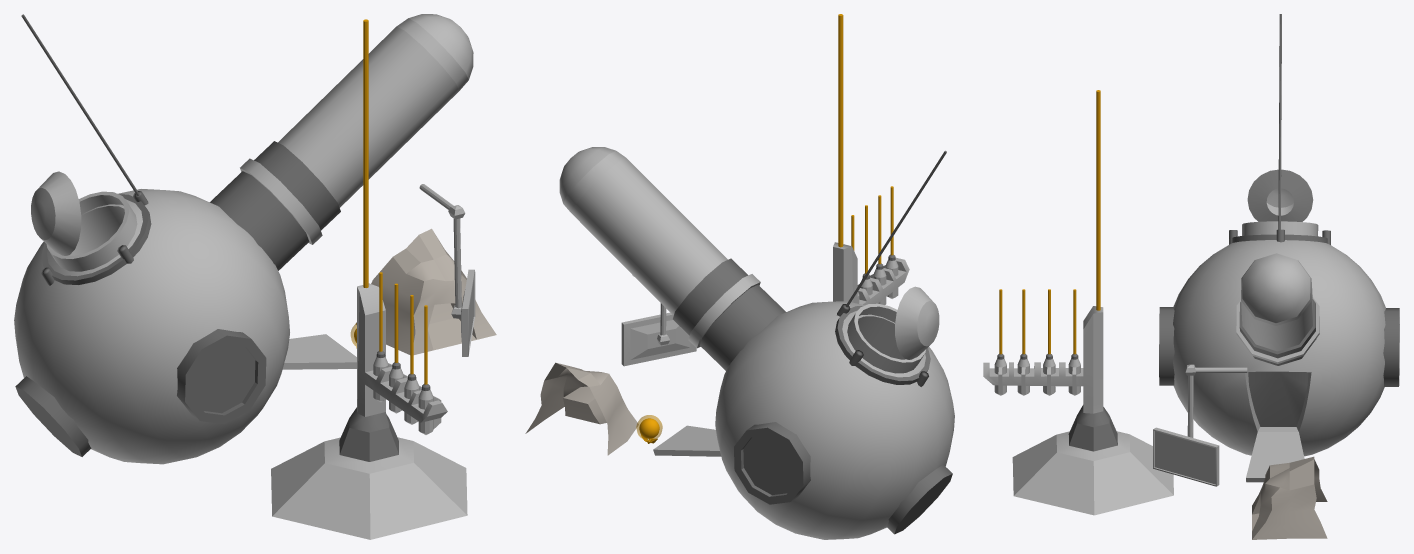
Rendered from Asset_Pack02.fbx.
3 views of the same model, side by side, from view 1: azimuth 30°, elevation 25°; view 2: azimuth 150°, elevation 25°; view 3: azimuth 270°, elevation 25° (orthographic). The views are drawn at different scales.
Visible parts, largest first — view 1: Ship, Beacon, Crablet_Spawner, Screen, Beacon_Part01, Beacon_Part03, Beacon_Part02, Beacon_Part04; view 2: Ship, Crablet_Spawner, Beacon, Screen, Extract, Beacon_Part01, Beacon_Part02; view 3: Ship, Beacon, Crablet_Spawner, Screen, Beacon_Part01, Beacon_Part02, Beacon_Part04, Beacon_Part03.
Part boxes in pixels (box(x1,y1,x2,y2)): Ship: box(14, 14, 473, 464); Beacon: box(271, 19, 467, 539); Crablet_Spawner: box(356, 228, 496, 354); Screen: box(419, 184, 475, 356); Beacon_Part01: box(418, 305, 441, 434); Beacon_Part03: box(389, 283, 407, 413); Beacon_Part02: box(404, 295, 421, 424); Beacon_Part04: box(373, 272, 392, 401); Ship: box(559, 147, 954, 539); Crablet_Spawner: box(525, 362, 638, 455); Beacon: box(833, 14, 909, 305); Screen: box(621, 274, 696, 366); Extract: box(636, 415, 662, 443); Beacon_Part01: box(883, 186, 898, 298); Beacon_Part02: box(870, 195, 886, 304); Ship: box(1159, 14, 1399, 482); Beacon: box(983, 90, 1173, 515); Crablet_Spawner: box(1252, 456, 1327, 539); Screen: box(1153, 364, 1247, 486); Beacon_Part01: box(994, 289, 1006, 395); Beacon_Part02: box(1017, 289, 1029, 395); Beacon_Part04: box(1068, 289, 1080, 395); Beacon_Part03: box(1043, 289, 1055, 395).
Size of the model in its own units: 125 by 127 by 120.
